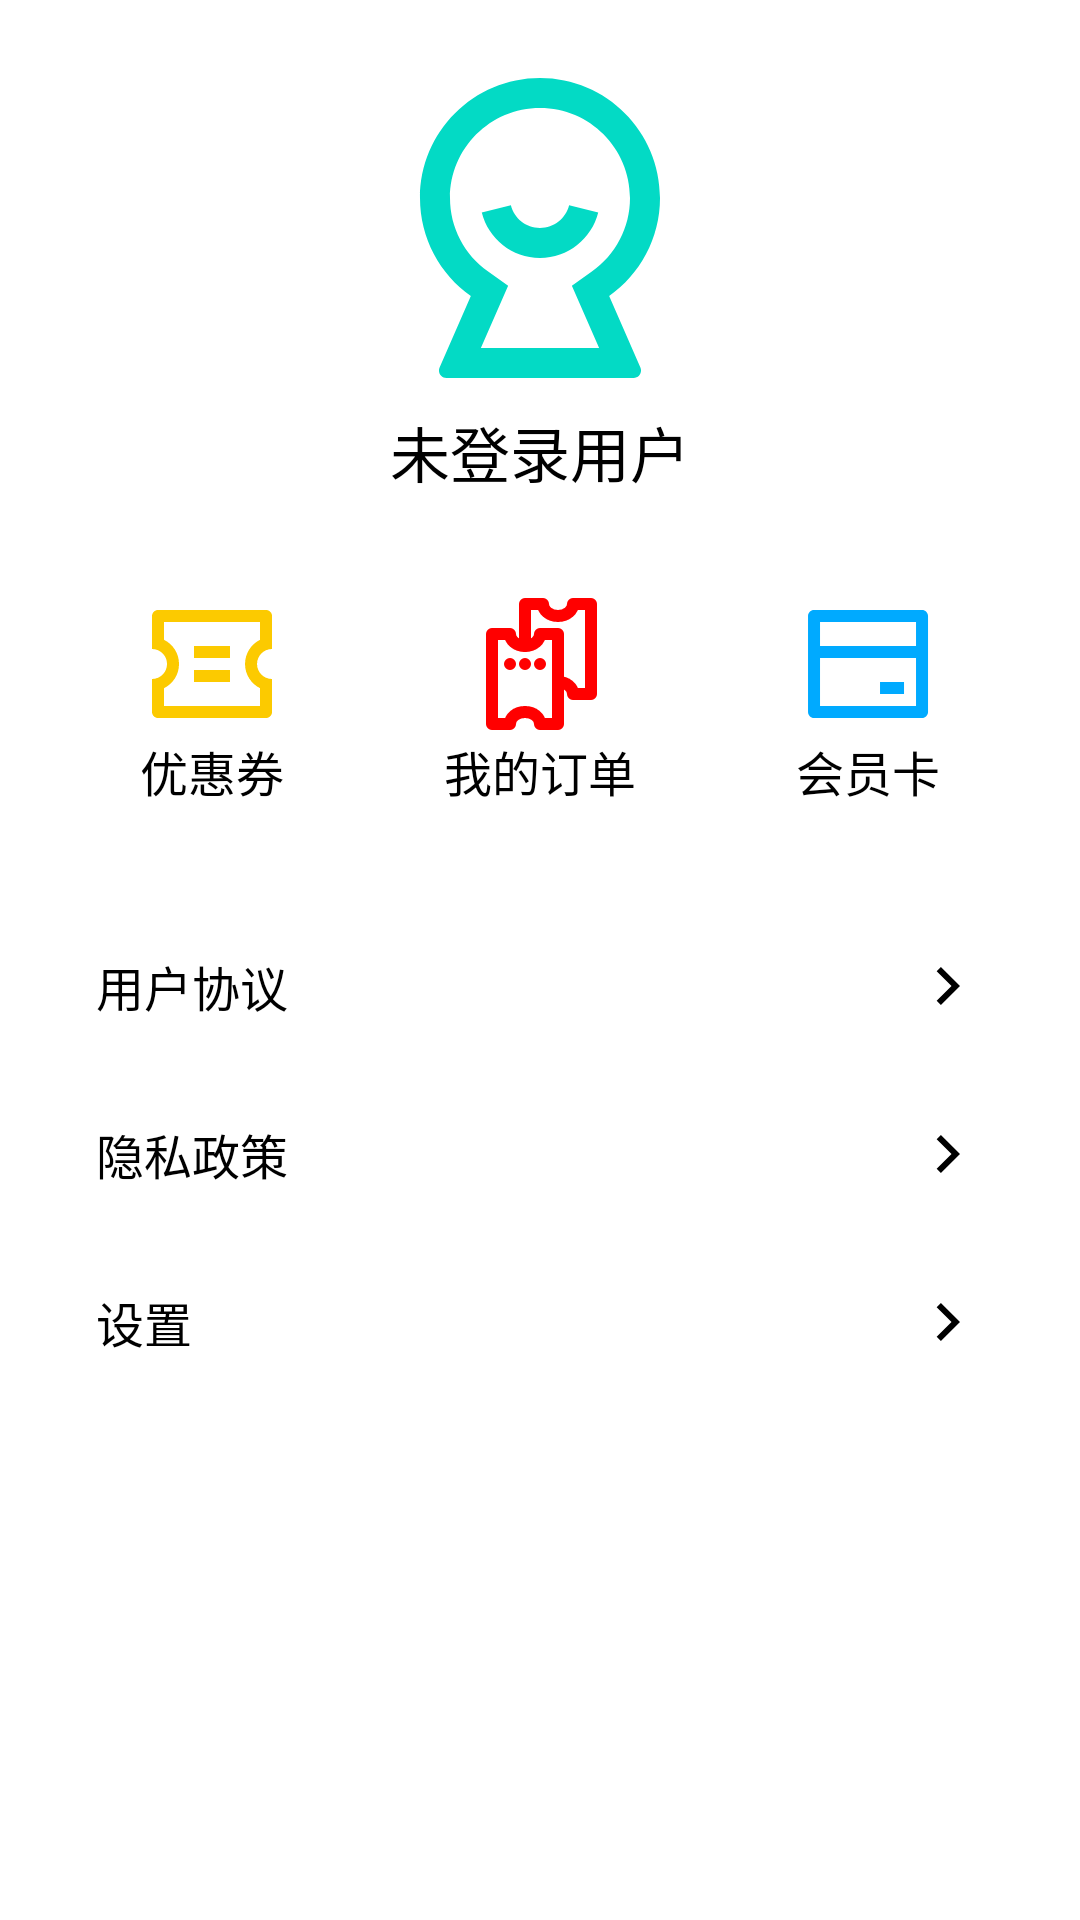

Icons on this 1080 × 1920 Android screen, each with the point to tap as (x=x, y=y):
ticket: (x=541, y=664)
